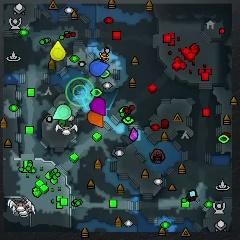p1: (89, 61, 109, 76)
p2: (53, 105, 72, 120)
p3: (90, 97, 107, 115)
p4: (50, 41, 66, 61)
p5: (88, 110, 103, 127)
